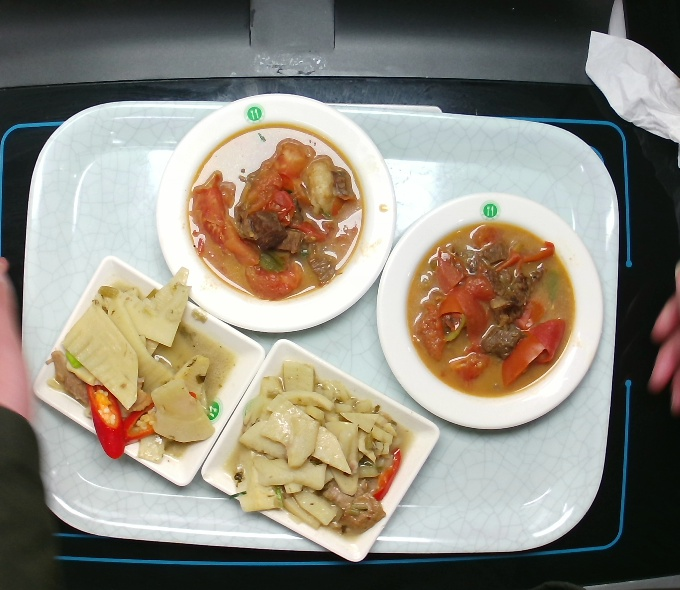wcq-DongSun: (45, 263, 229, 476), (220, 354, 408, 547)
wcq-FanQiwNiuRou: (185, 119, 366, 306), (397, 222, 578, 409)
